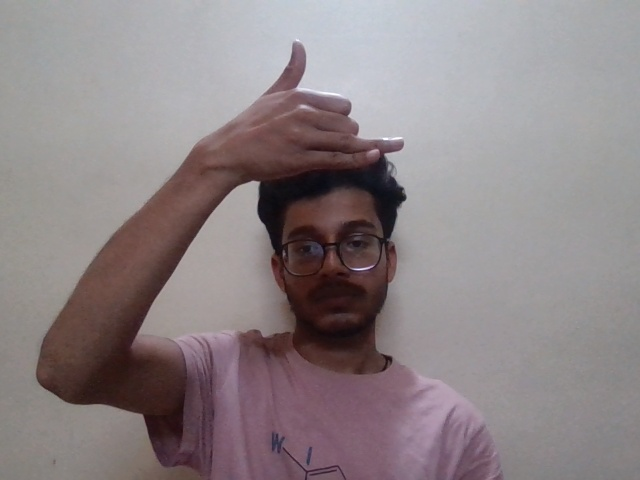project: (170, 39, 408, 190)
